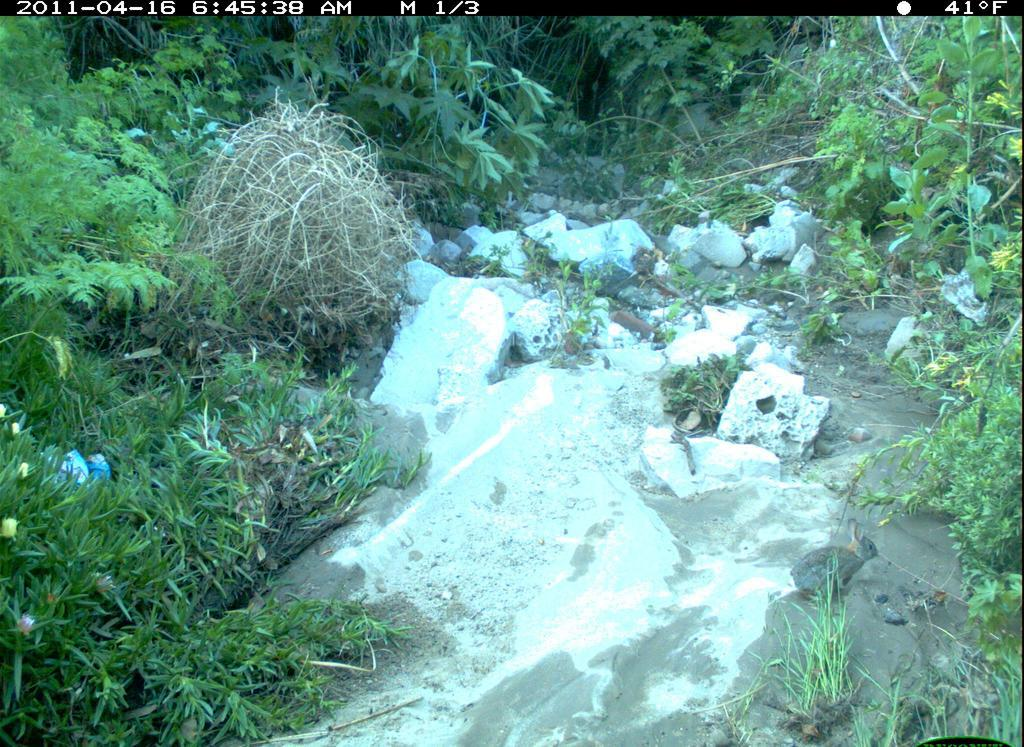rabbit: (792, 518, 882, 607)
